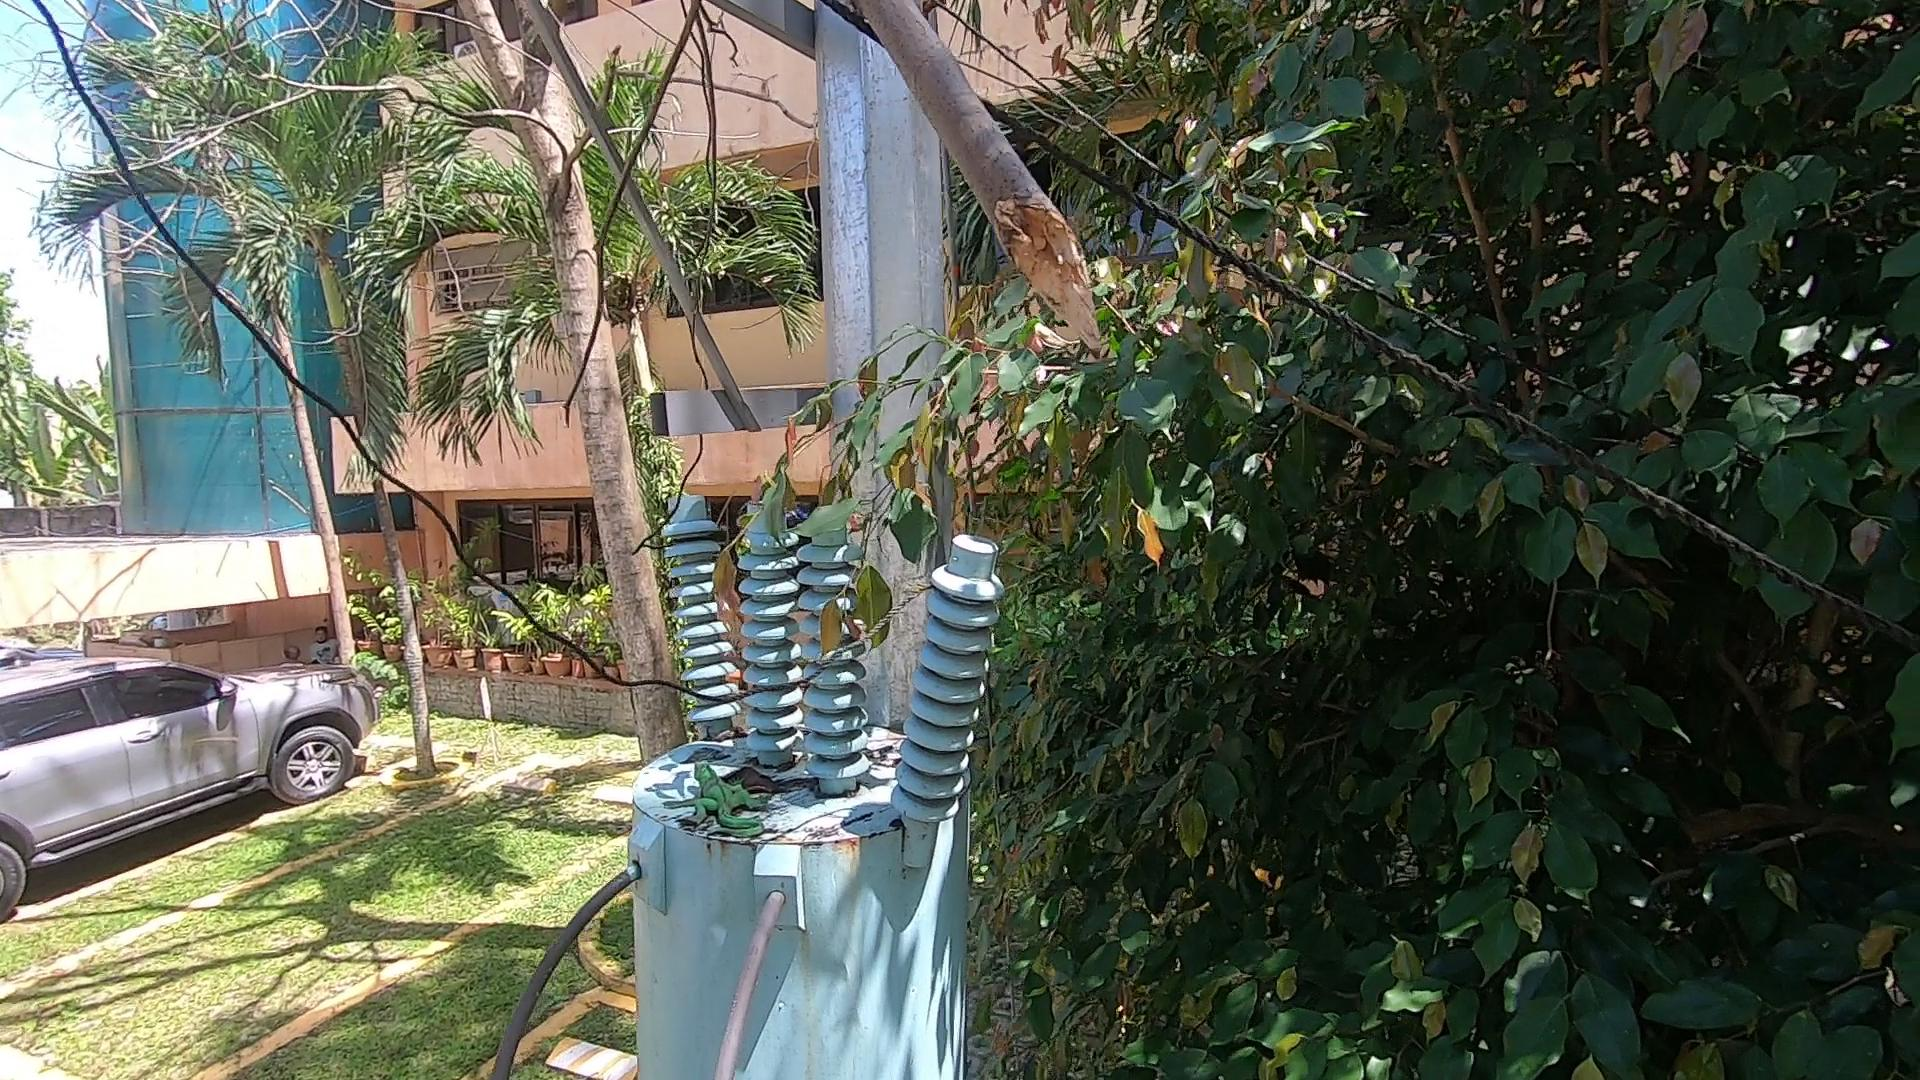branch with leaves: (702, 361, 947, 676)
leaf: (720, 764, 837, 804), (870, 738, 903, 778), (702, 724, 746, 746)
tree branch: (728, 13, 1131, 382)
